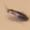cockroach: (6, 7, 29, 22)
